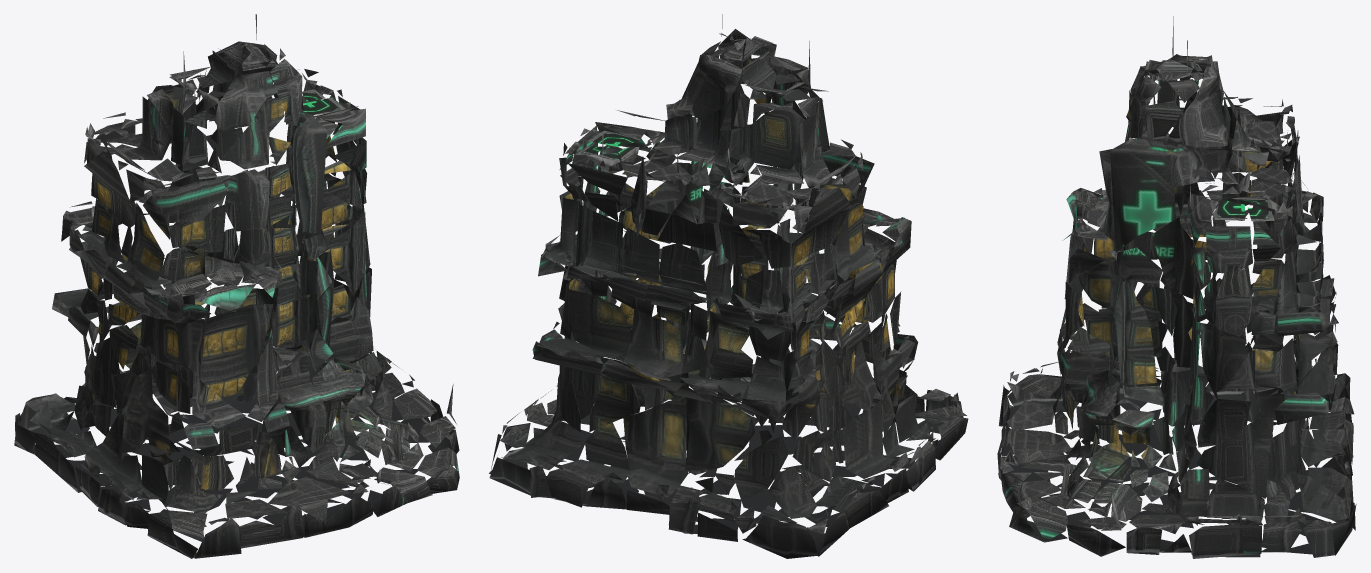
File: s12Medcore_LOD2.glb
3 views of the same model, side by side, from view 1: azimuth 30°, elevation 25°; view 2: azimuth 150°, elevation 25°; view 3: azimuth 270°, elevation 25° (orthographic).
Parts seen in each view (by area): view 1: Mesh_0.003; view 2: Mesh_0.003; view 3: Mesh_0.003.
Boxes of the visible parts, box(x1,y1,x2,y2) form: Mesh_0.003: box(14, 14, 459, 558); Mesh_0.003: box(489, 14, 968, 558); Mesh_0.003: box(997, 16, 1356, 558).
Size of the model in its own units: 1.49 by 1.86 by 1.37.
1 material, 1 textured.
